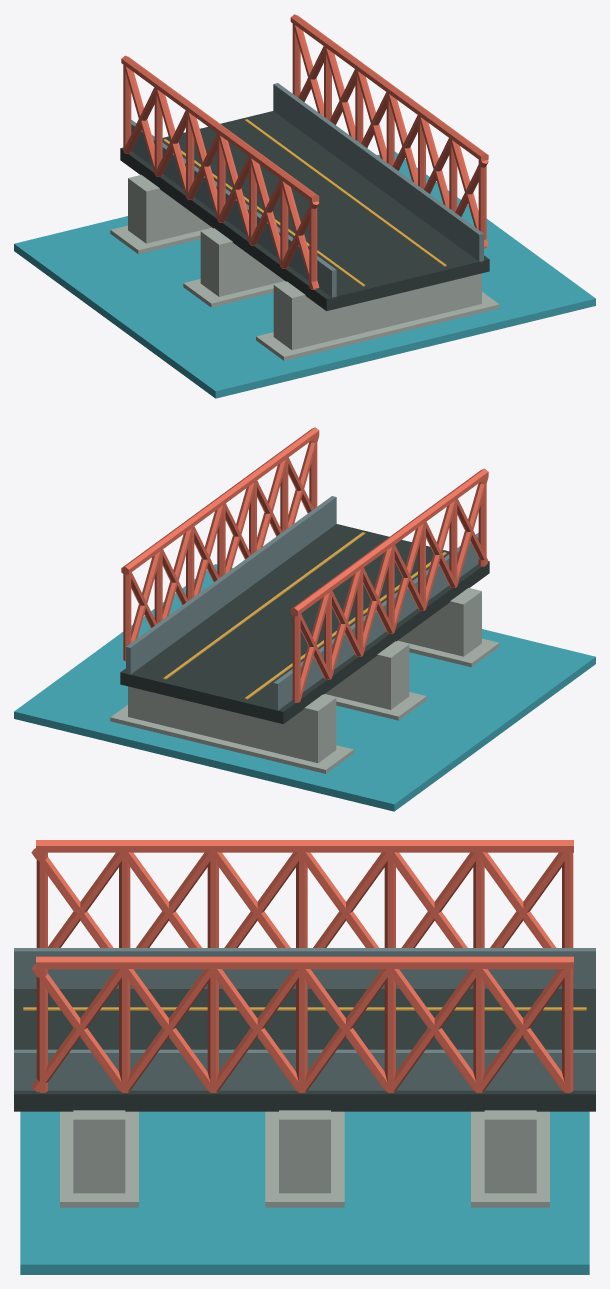
File: bridge_lv1.glb
3 views of the same model, one above another, from view 1: azimuth 30°, elevation 25°; view 2: azimuth 150°, elevation 25°; view 3: azimuth 270°, elevation 25° (orthographic). The views are drawn at different scales.
Parts seen in each view (by area): view 1: water, coral, asphalt, concrete, steel, gold; view 2: water, coral, asphalt, concrete, steel, gold; view 3: water, coral, asphalt, steel, concrete, gold.
Boxes of the visible parts, left/top/right/bottom form: water: left=14, top=151, right=595, bottom=398; coral: left=121, top=14, right=488, bottom=289; asphalt: left=120, top=111, right=489, bottom=311; concrete: left=110, top=175, right=499, bottom=360; steel: left=131, top=83, right=483, bottom=298; gold: left=163, top=119, right=446, bottom=286; water: left=14, top=564, right=595, bottom=811; coral: left=121, top=427, right=488, bottom=702; asphalt: left=120, top=524, right=489, bottom=724; concrete: left=110, top=588, right=499, bottom=773; steel: left=126, top=496, right=478, bottom=710; gold: left=163, top=532, right=446, bottom=699; water: left=20, top=1111, right=589, bottom=1274; coral: left=31, top=840, right=573, bottom=1092; asphalt: left=14, top=989, right=595, bottom=1111; steel: left=14, top=948, right=595, bottom=1090; concrete: left=60, top=1110, right=549, bottom=1207; gold: left=23, top=1007, right=586, bottom=1010.
Bounding box in the file's own units: 9.8 × 4.28 × 9.2.
